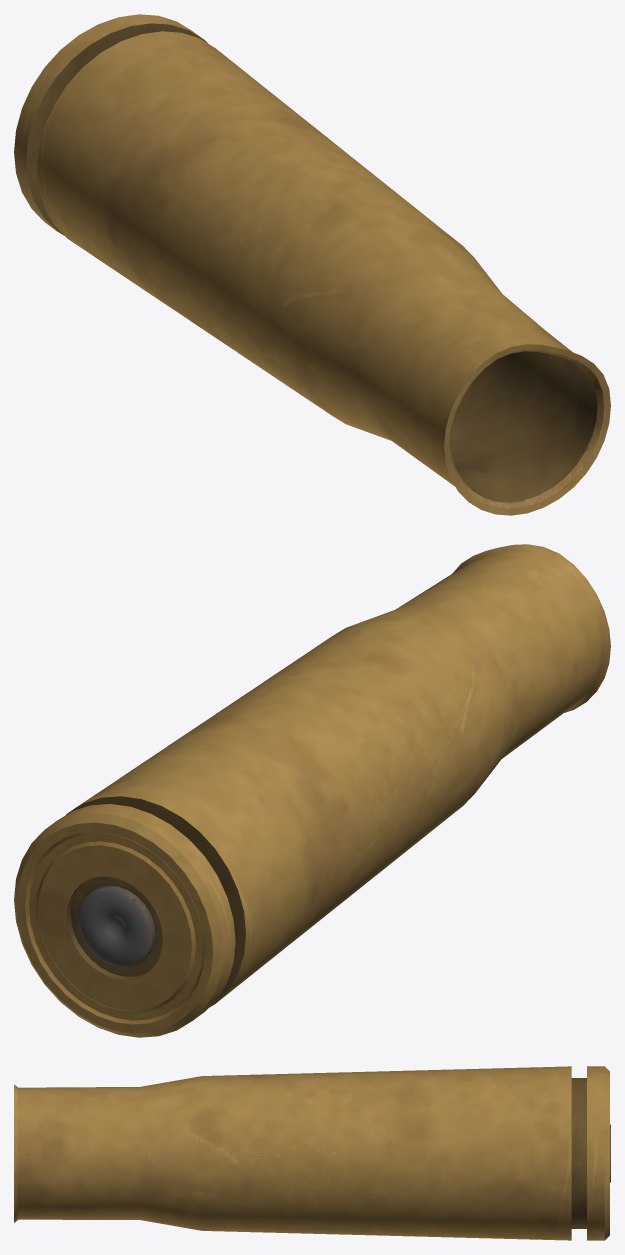
The model's file is shell_rifle.glb.
3 views of the same model, one above another, from view 1: azimuth 30°, elevation 25°; view 2: azimuth 150°, elevation 25°; view 3: azimuth 270°, elevation 25° (orthographic). The views are drawn at different scales.
Parts seen in each view (by area): view 1: mesh_body; view 2: mesh_body; view 3: mesh_body.
Boxes of the visible parts, bbox=[...] form: mesh_body: bbox=[14, 14, 610, 515]; mesh_body: bbox=[14, 544, 610, 1037]; mesh_body: bbox=[14, 1066, 610, 1240].
Size of the model in its own units: 0.0113 by 0.0113 by 0.0388.
Materials: 2 (2 with a texture image).
